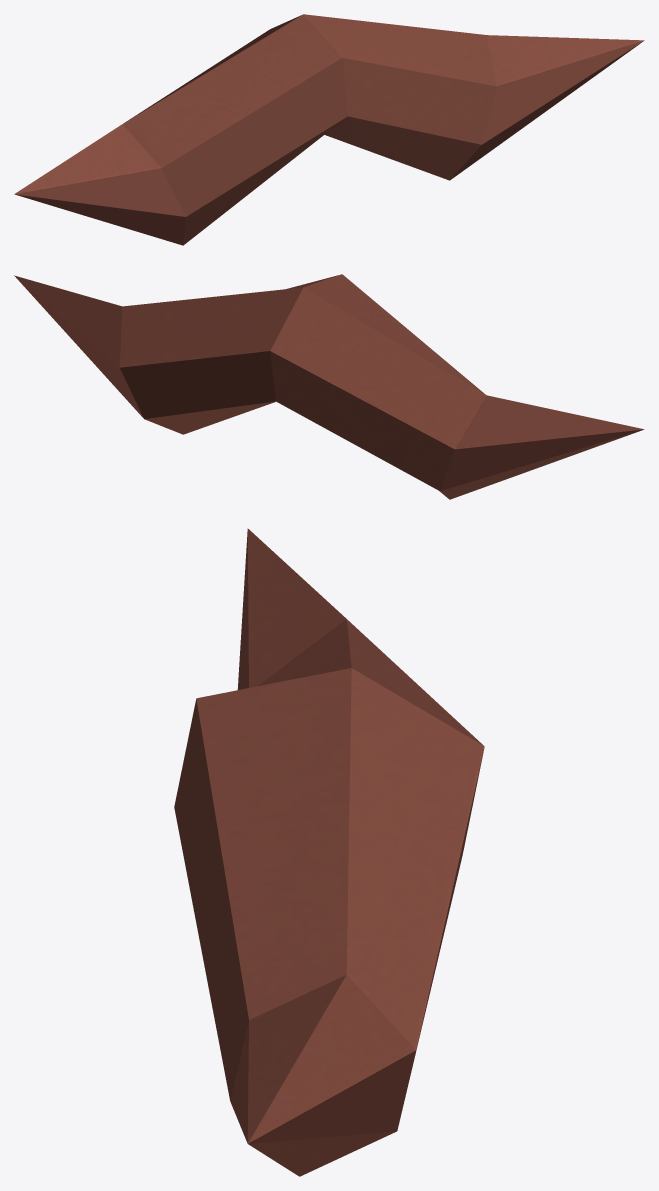
File: Mustache1.FBX
3 renders of one model, top to bottom at view 1: azimuth 30°, elevation 25°; view 2: azimuth 150°, elevation 25°; view 3: azimuth 270°, elevation 25°, orthographic. The views are drawn at different scales.
Visible parts, largest first — view 1: Mustache1; view 2: Mustache1; view 3: Mustache1.
Part boxes in pixels (bbox=[...]): Mustache1: bbox=[14, 14, 644, 245]; Mustache1: bbox=[14, 274, 644, 499]; Mustache1: bbox=[174, 528, 484, 1176].
Bounding box in the file's own units: 136 × 28.97 × 38.99.
1 material, 1 textured.
